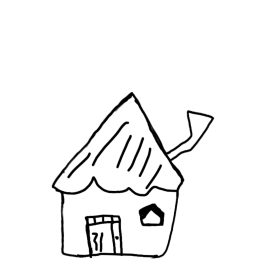bottom_placed_house: (0, 1, 260, 260)
chimney: (161, 106, 222, 165)
door: (79, 205, 129, 260)
open_window: (133, 199, 166, 229)
roof: (46, 88, 201, 198)
wall: (50, 158, 178, 260)
